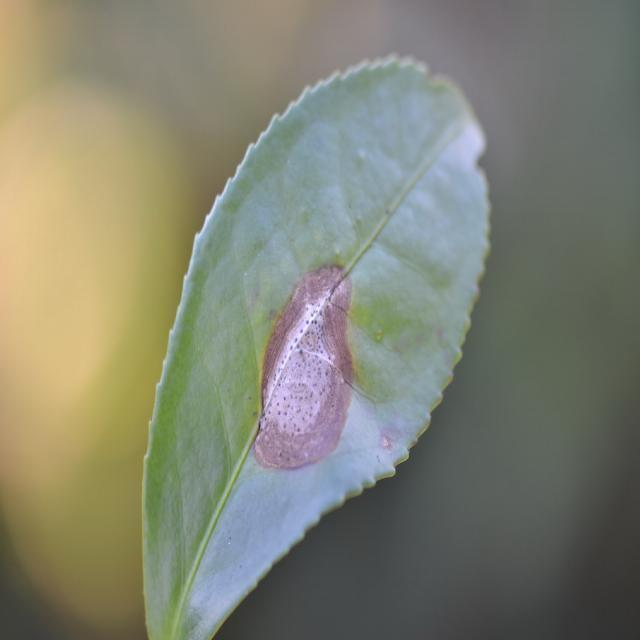Tea cloud leaf blight: (252, 261, 360, 475)
